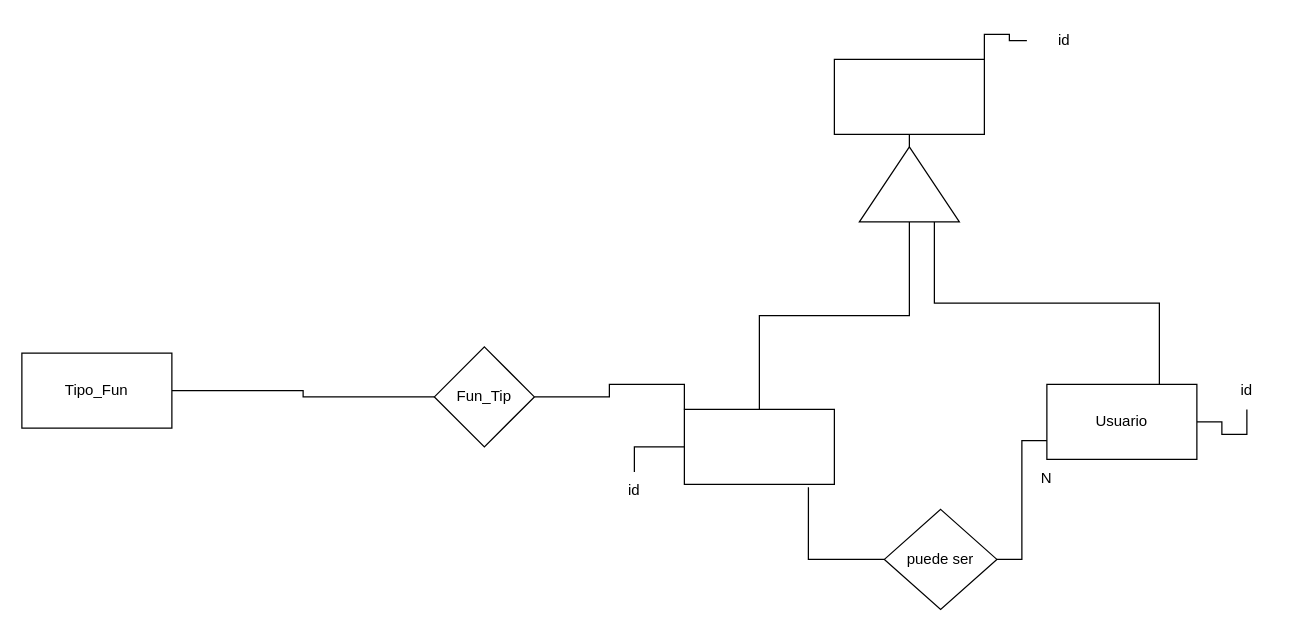
This 1306x631 diagram has some shape labels left out. The box of each missing label's shape, as (x1, y1, x2, y2) in pixels:
Funcionario: (683, 408, 834, 484)
Persona: (833, 58, 984, 134)
